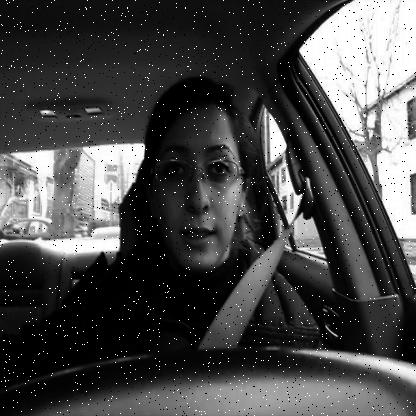seatbelt: (115, 34, 292, 416)
